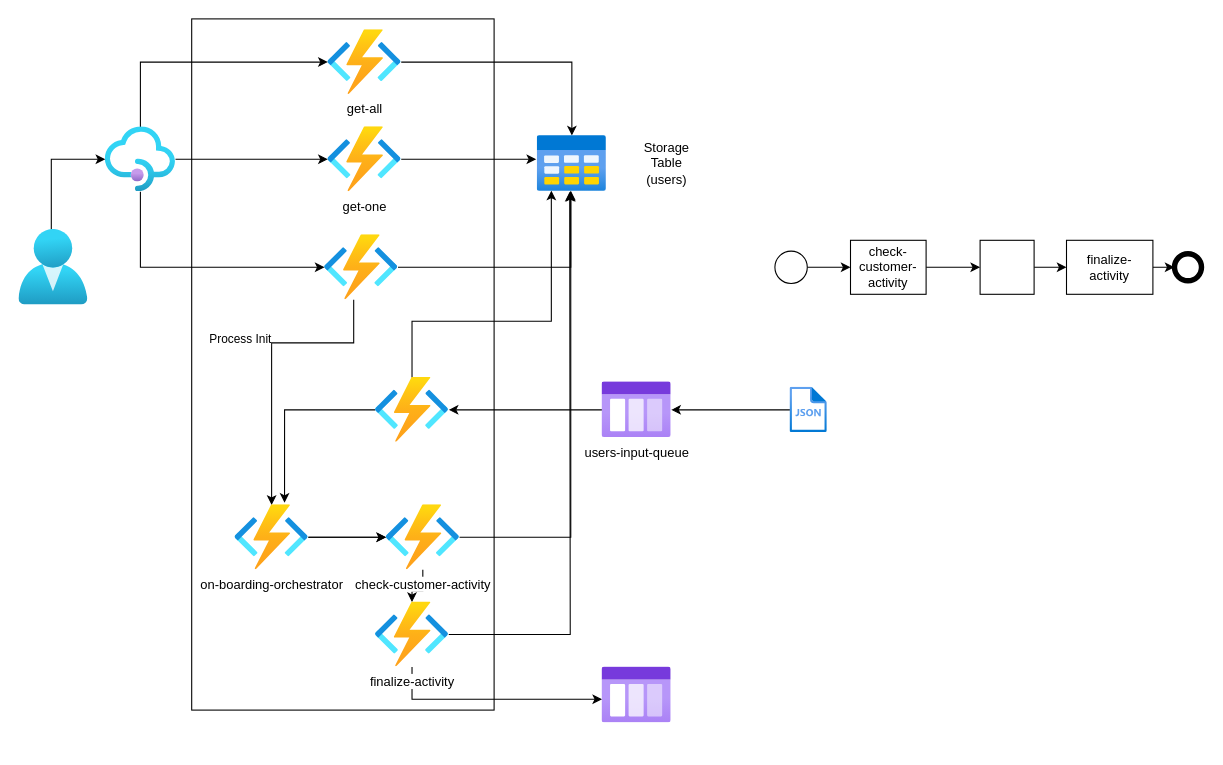
Image size: 1223x765. Some labels were removed from this diagram. The box of each missing label's shape, as (x1, y1, x2, y2) in pixels:
on-boarding-completed: (602, 666, 671, 723)
put-one: (324, 234, 397, 299)
queue-user-input-trigger: (375, 377, 448, 442)
Timer (30s): (979, 239, 1034, 294)
